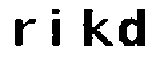d: (117, 5, 151, 52)
i: (45, 6, 71, 52)
k: (79, 7, 116, 52)
r: (9, 15, 39, 55)
